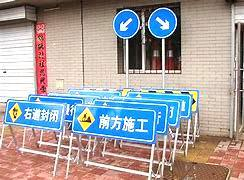sign: (74, 107, 153, 139), (4, 102, 60, 130)
